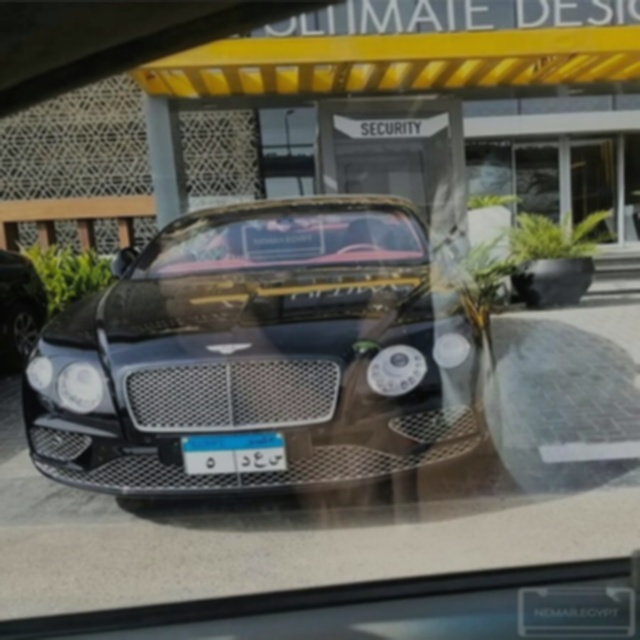License Plate: (179, 429, 289, 476)
